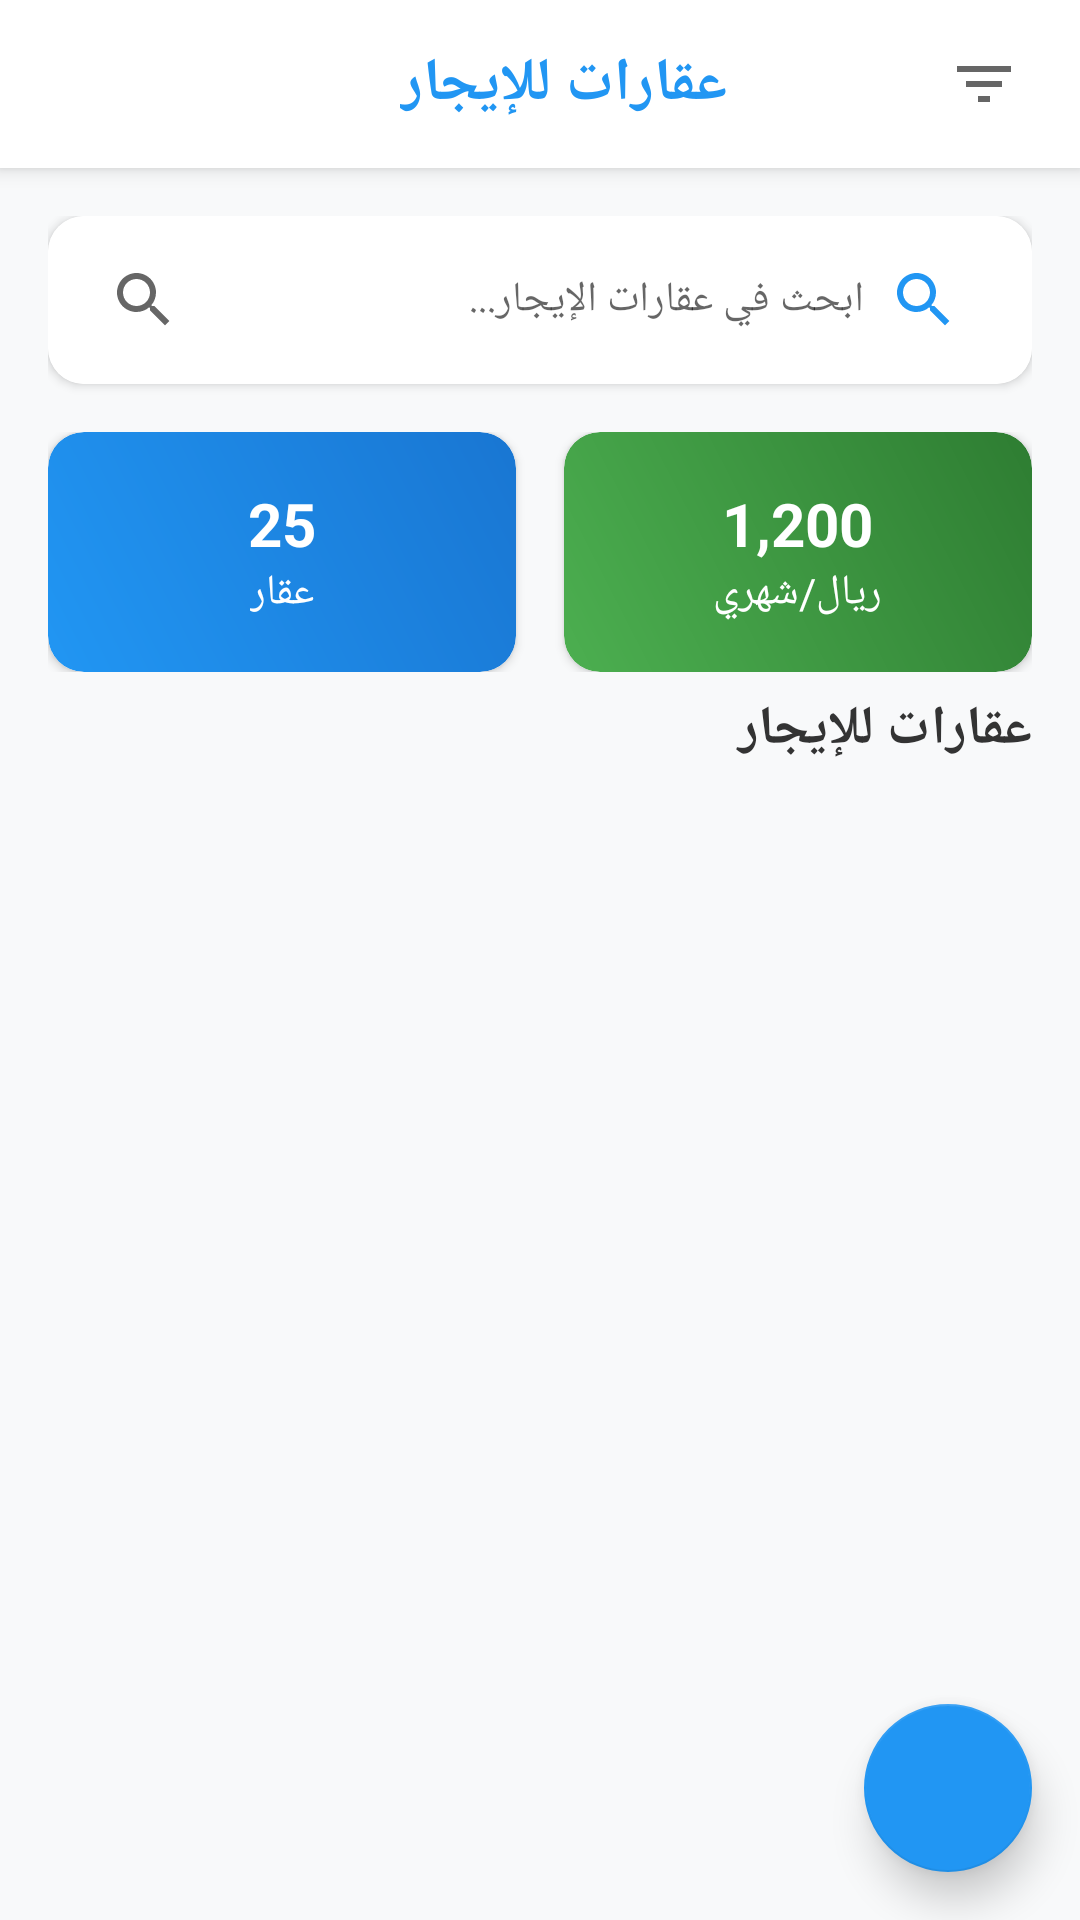

Icons on this 1080×1920 Android screen, each with the point to tap as (x=x, y=y):
search: (x=143, y=299)
فلتر: (x=984, y=84)
